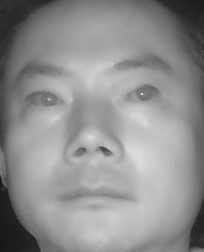eye: (25, 87, 66, 113), (123, 83, 161, 105)
mouth: (56, 176, 133, 217)
